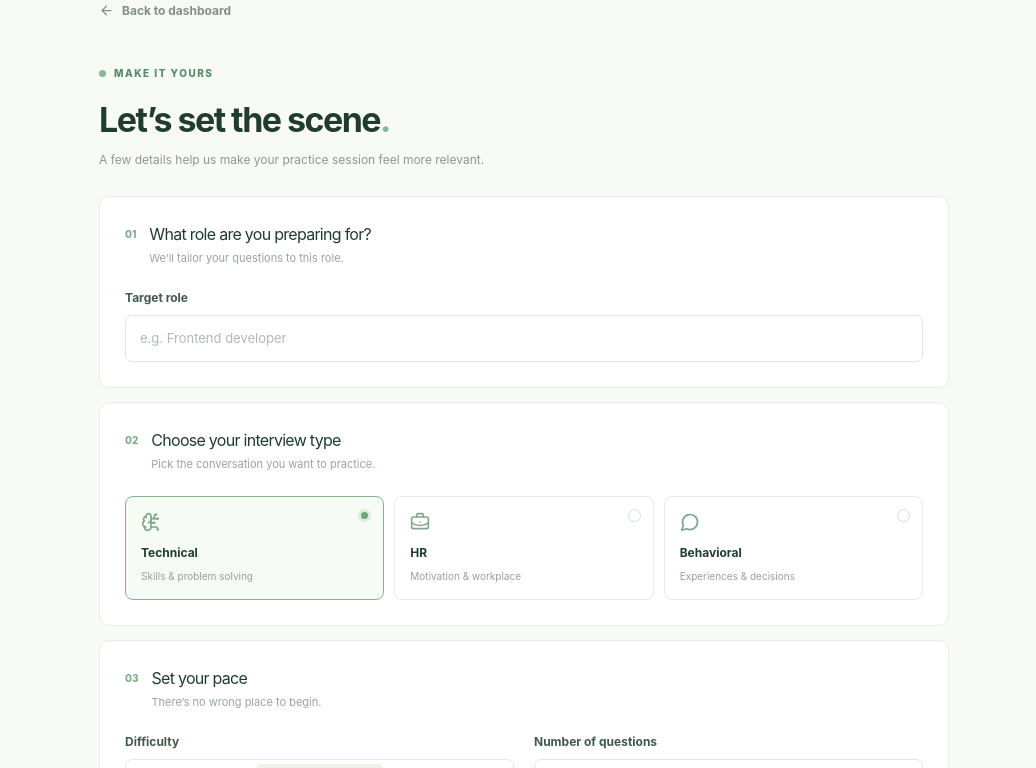
Test: frontend pages › creates an interview using selected options
The image size is (1036, 768).
Type "Developer" into the field labelled "Target role" at (524, 339), box [125,315,923,362]
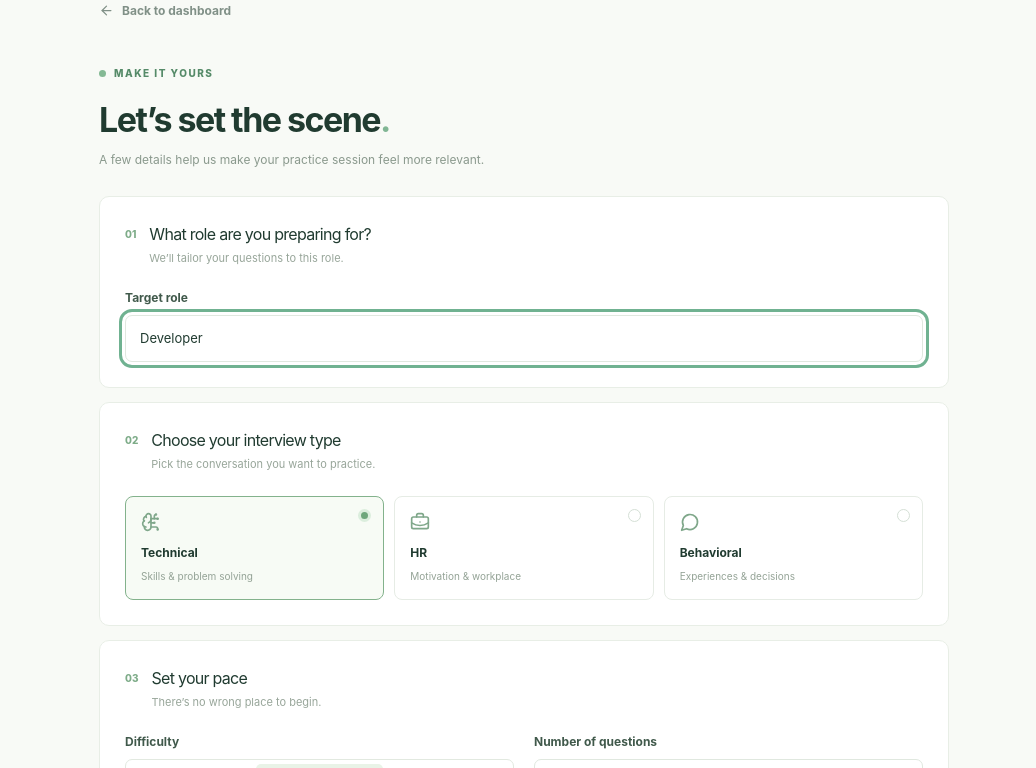
Click the button "Behavioral Experiences & decisions" at (793, 548), box [664,496,923,600]
(page scrolled)
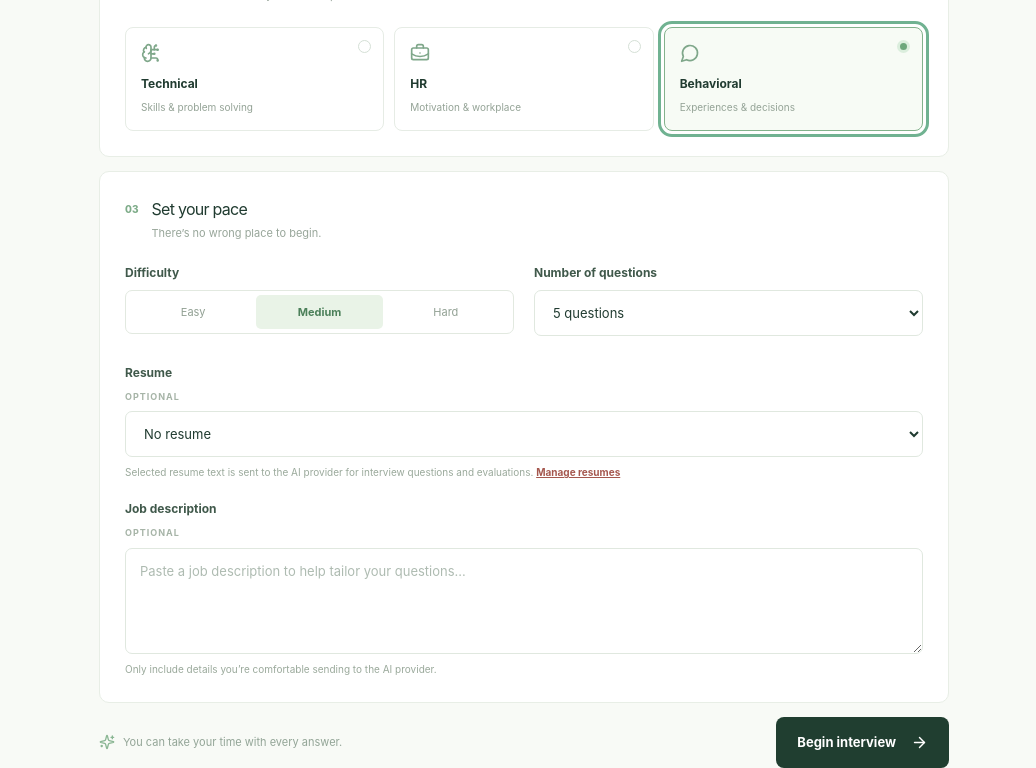
Click the button "Begin interview" at (863, 742), box [776,717,949,767]
(page scrolled)
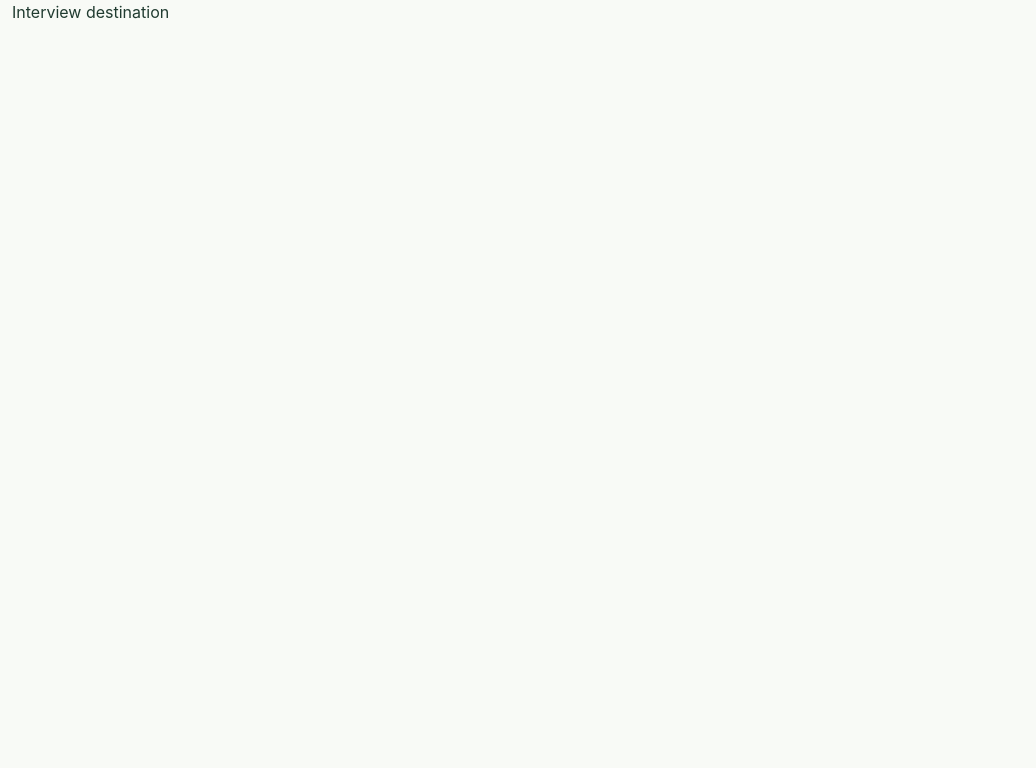
Expected: the text "Interview destination" is shown, [12,2,169,22]
